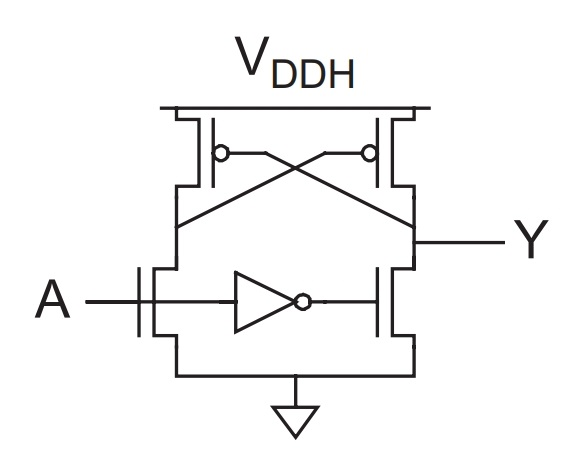gnd: (265, 398, 327, 441)
nmos: (128, 257, 191, 345), (367, 260, 426, 345)
not: (221, 261, 325, 340)
pmos: (167, 113, 234, 198), (359, 114, 423, 194)
